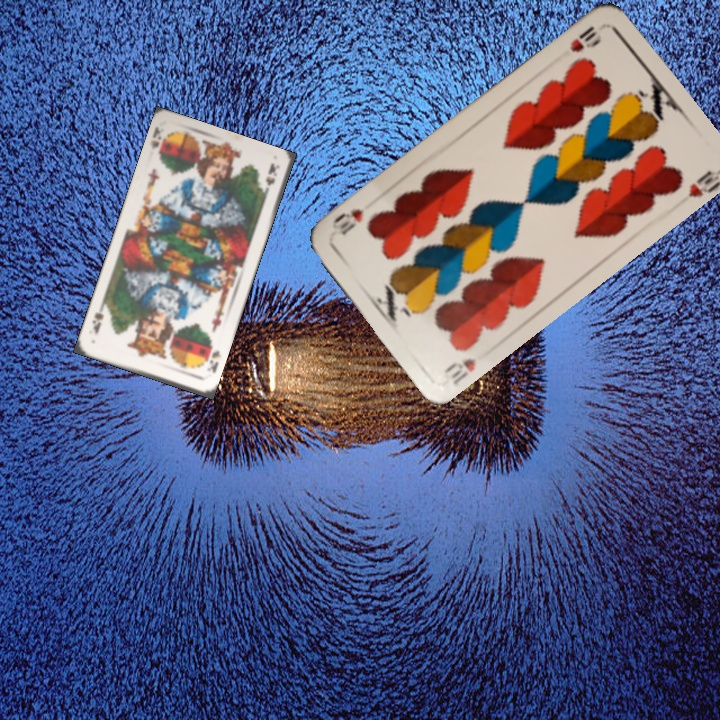H10: (440, 354, 479, 389), (566, 21, 602, 55)
SK: (203, 346, 223, 375), (147, 123, 164, 152)
